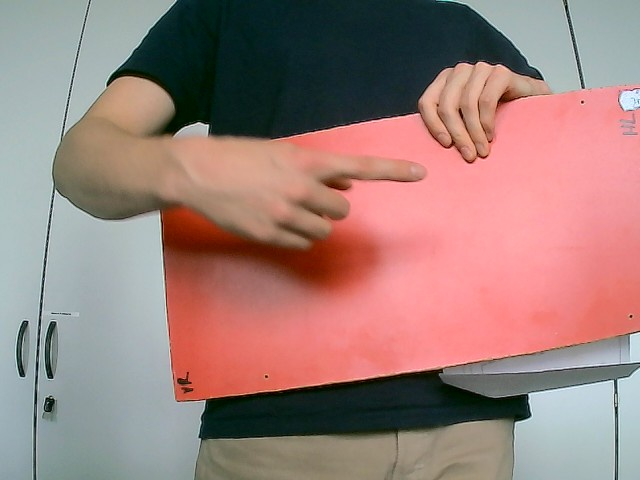left: (176, 133, 428, 252)
no_gesture: (410, 53, 520, 165)
